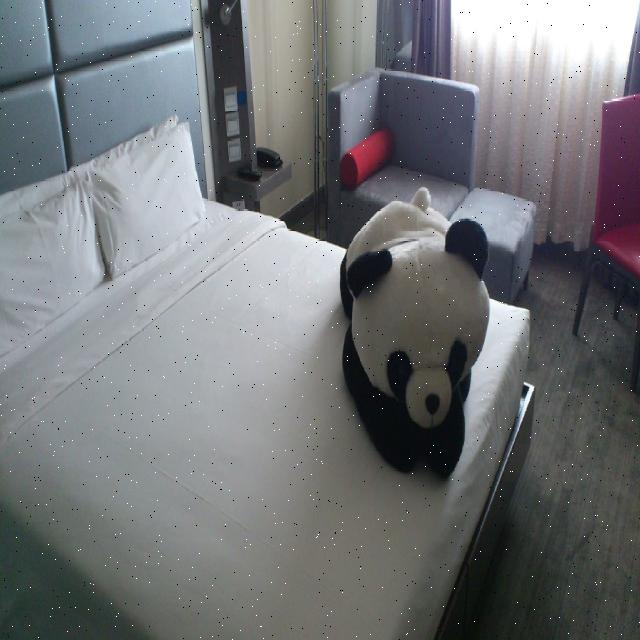panda: (338, 187, 491, 468)
